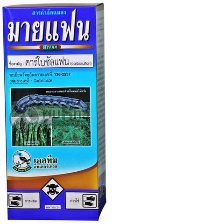carton: (0, 0, 109, 222)
